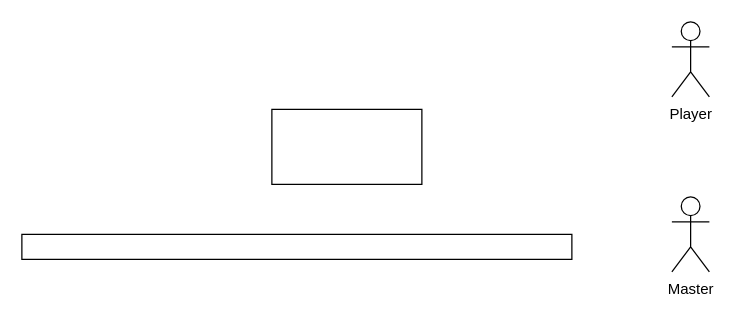
This 735x320 diagram has some shape labels left out. Here are the shapes that lost their labels. From the top down, the box of each, then its label:
(271, 108, 422, 184): front
(21, 233, 572, 259): API
